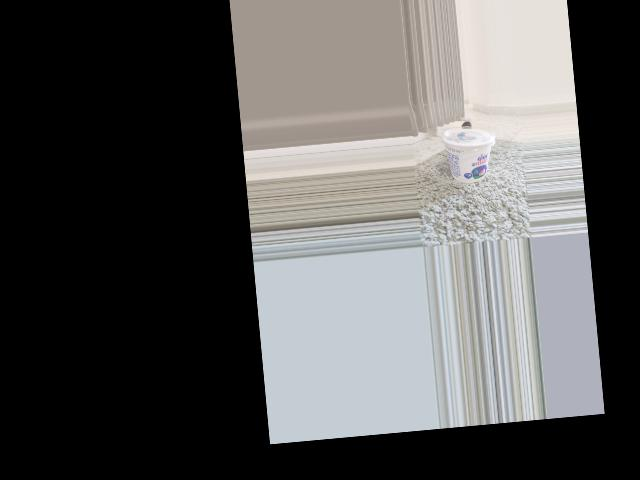cotage: (443, 123, 496, 186)
